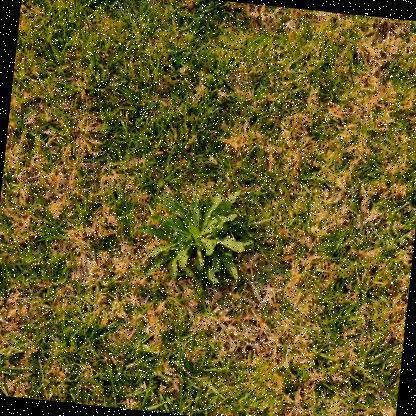Weeds: (131, 177, 260, 288)
